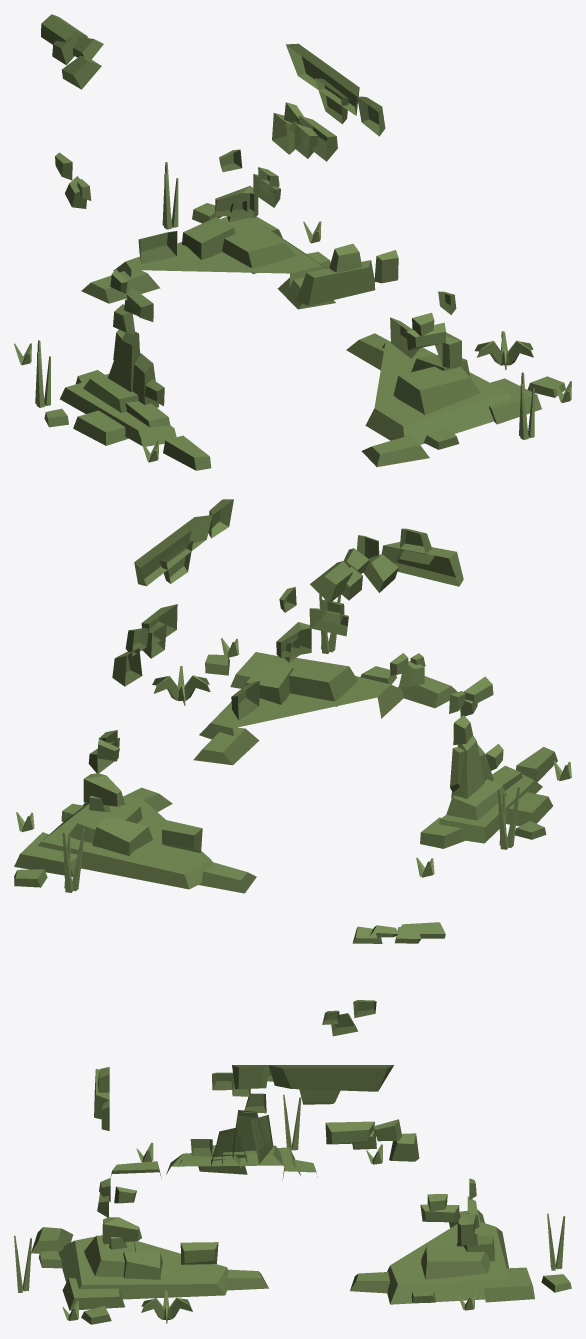
Rendered from SA_Bld_HouseTall_Growth_03.gltf.
3 views of the same model, one above another, from view 1: azimuth 30°, elevation 25°; view 2: azimuth 150°, elevation 25°; view 3: azimuth 270°, elevation 25° (orthographic). The views are drawn at different scales.
Parts seen in each view (by area): view 1: SA_Bld_HouseTall_Growth_03; view 2: SA_Bld_HouseTall_Growth_03; view 3: SA_Bld_HouseTall_Growth_03.
Part boxes in pixels (x1,y1,x2,y2): SA_Bld_HouseTall_Growth_03: (14,14,571,470); SA_Bld_HouseTall_Growth_03: (14,499,571,893); SA_Bld_HouseTall_Growth_03: (14,922,571,1324).
Bounding box in the file's own units: 18.25 × 12.4 × 23.1.
1 material, 1 textured.
